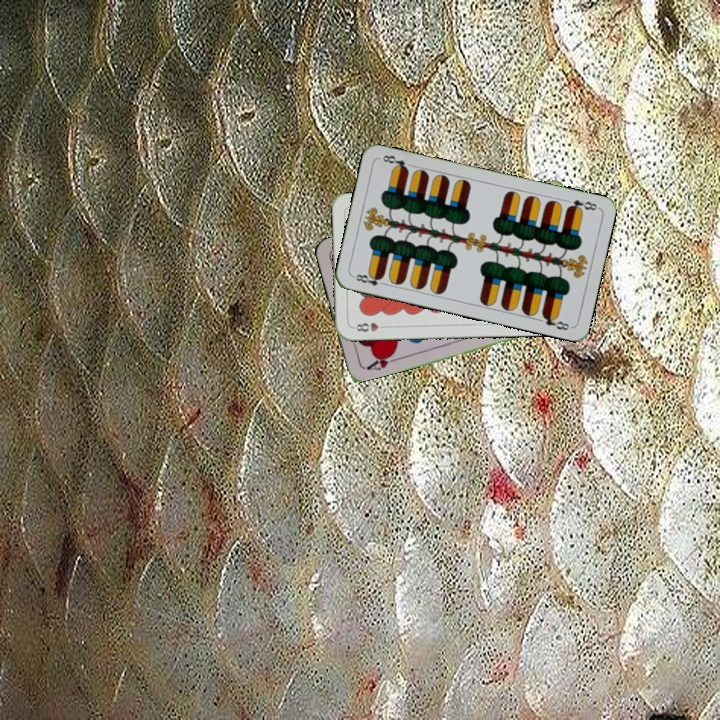E8: (349, 269, 389, 288), (563, 196, 600, 215)
H8: (349, 319, 390, 334)
HA: (360, 349, 400, 373)
